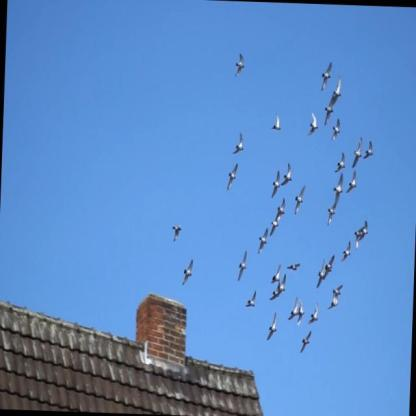bird: (351, 135, 364, 169), (332, 173, 345, 207), (322, 92, 334, 127), (293, 184, 306, 216), (236, 249, 248, 283), (319, 61, 332, 92), (265, 311, 278, 342), (225, 163, 238, 192), (182, 256, 194, 287), (257, 225, 269, 255), (332, 74, 343, 105), (280, 161, 293, 187), (299, 328, 312, 354), (268, 210, 280, 238), (306, 300, 319, 325), (270, 169, 281, 198), (307, 111, 319, 137), (333, 149, 346, 173), (345, 169, 357, 195), (287, 295, 299, 321), (232, 133, 245, 156), (362, 137, 374, 161), (316, 262, 327, 287), (341, 239, 352, 263), (324, 252, 335, 276), (269, 281, 281, 302), (296, 299, 305, 327), (234, 53, 244, 78), (331, 117, 341, 142), (271, 262, 282, 284), (244, 289, 256, 309), (353, 225, 362, 251), (271, 111, 282, 132), (326, 203, 336, 226), (360, 220, 370, 243), (328, 292, 339, 312), (172, 222, 182, 243), (276, 274, 286, 295), (276, 199, 287, 218), (286, 260, 301, 273), (332, 282, 343, 296)
